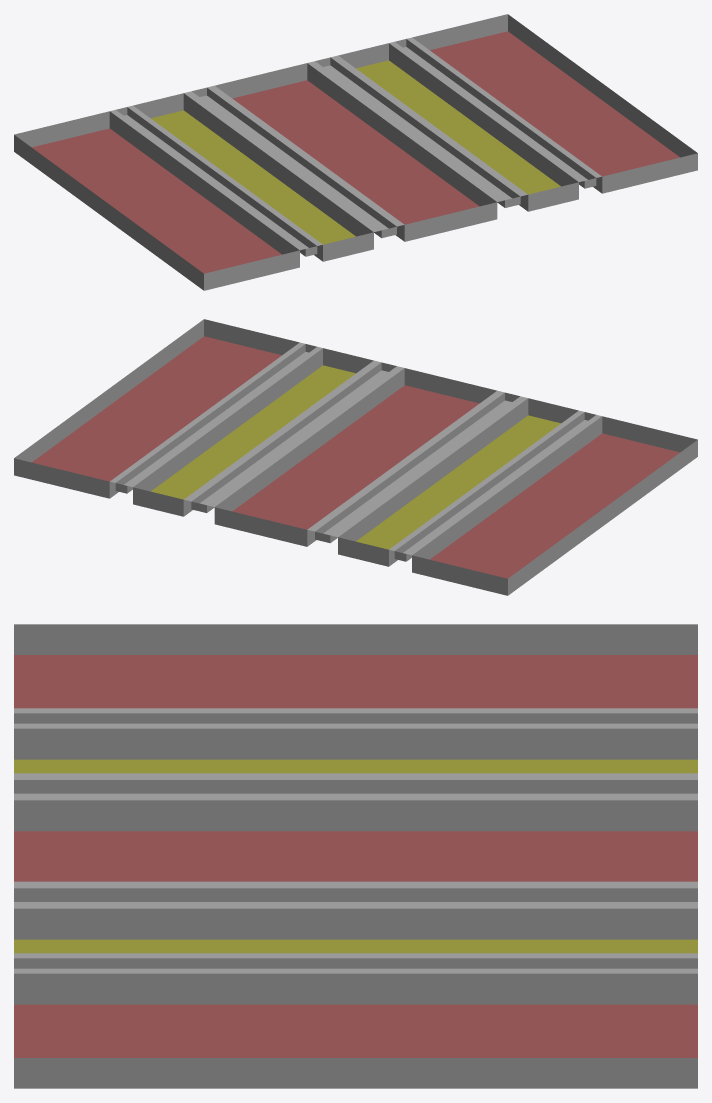
The model's file is ceiling.fbx.
3 renders of one model, top to bottom at view 1: azimuth 30°, elevation 25°; view 2: azimuth 150°, elevation 25°; view 3: azimuth 270°, elevation 25°, orthographic. The views are drawn at different scales.
Parts seen in each view (by area): view 1: Ceiling; view 2: Ceiling; view 3: Ceiling.
Part boxes in pixels (<box>): Ceiling: <box>14,14,697,290</box>; Ceiling: <box>14,319,697,595</box>; Ceiling: <box>14,624,697,1088</box>.
Size of the model in its own units: 600 by 19.94 by 400.
